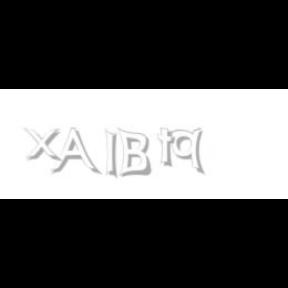A: (50, 128, 98, 176)
B: (117, 128, 151, 178)
I: (106, 128, 118, 180)
q: (170, 128, 206, 176)
t: (157, 128, 179, 168)
x: (23, 128, 65, 162)
